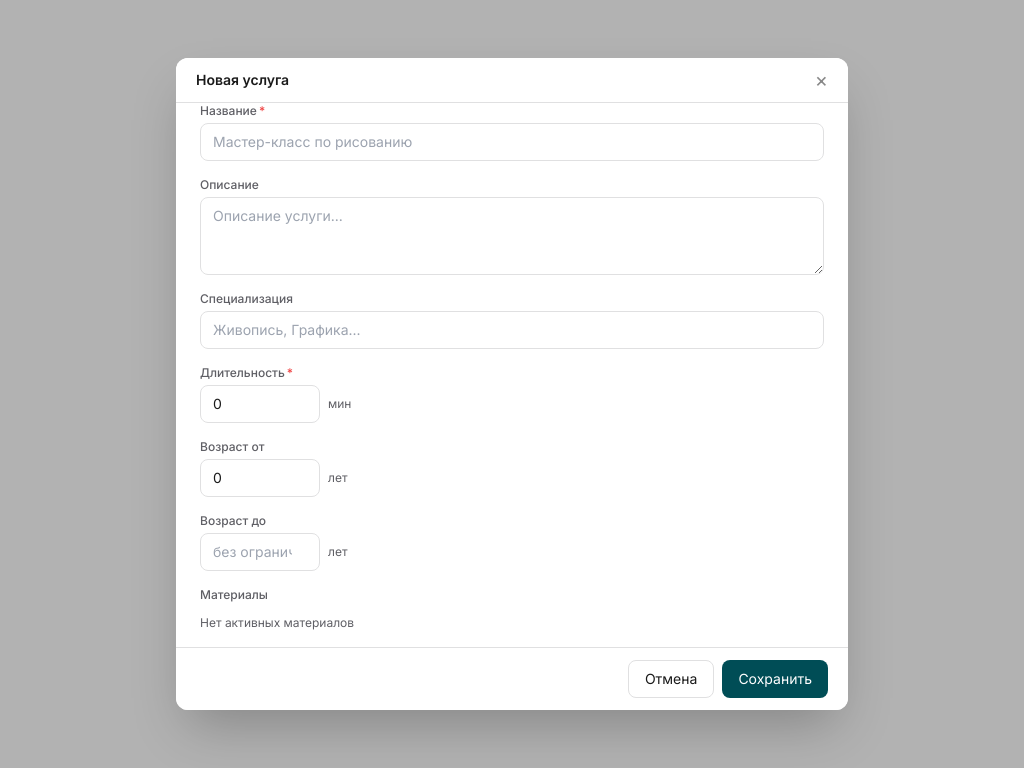
Test: ServiceModal — required numbers and tariff item fields (GH #203 §4.5) › duration 0 → «Минимум: 15» (range check alive)
Type "Новая услуга" into the field labelled "Название*" at (512, 142), box [200,123,824,161]
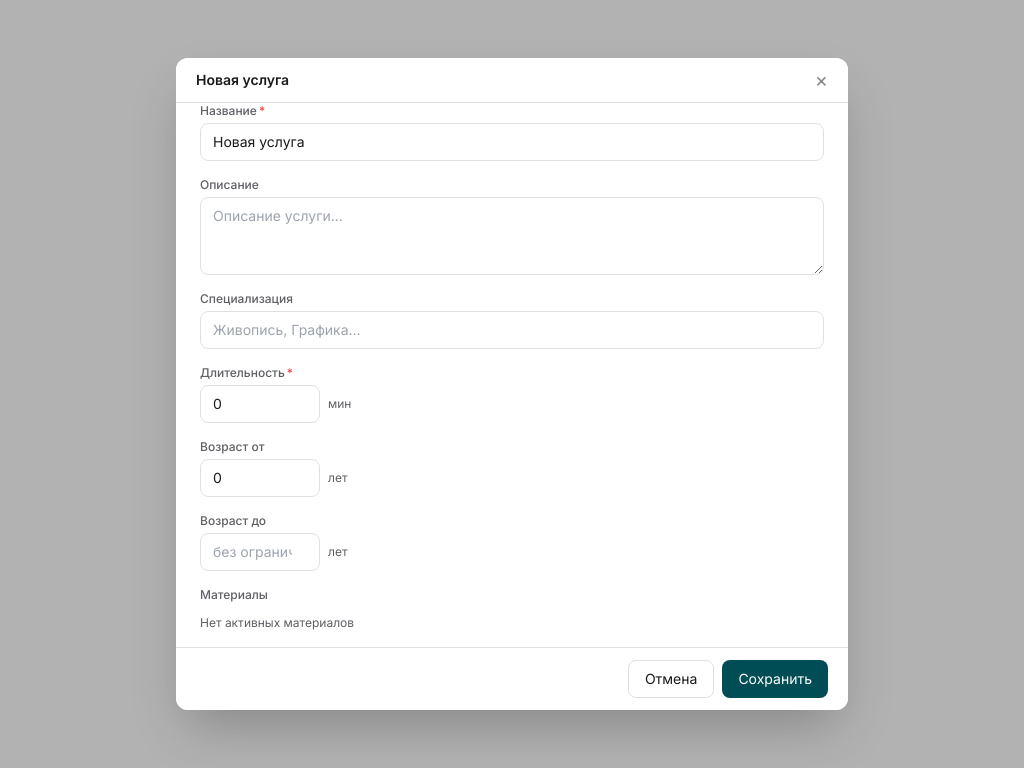
Click the button "Сохранить" at (775, 679), box [722,660,828,698]
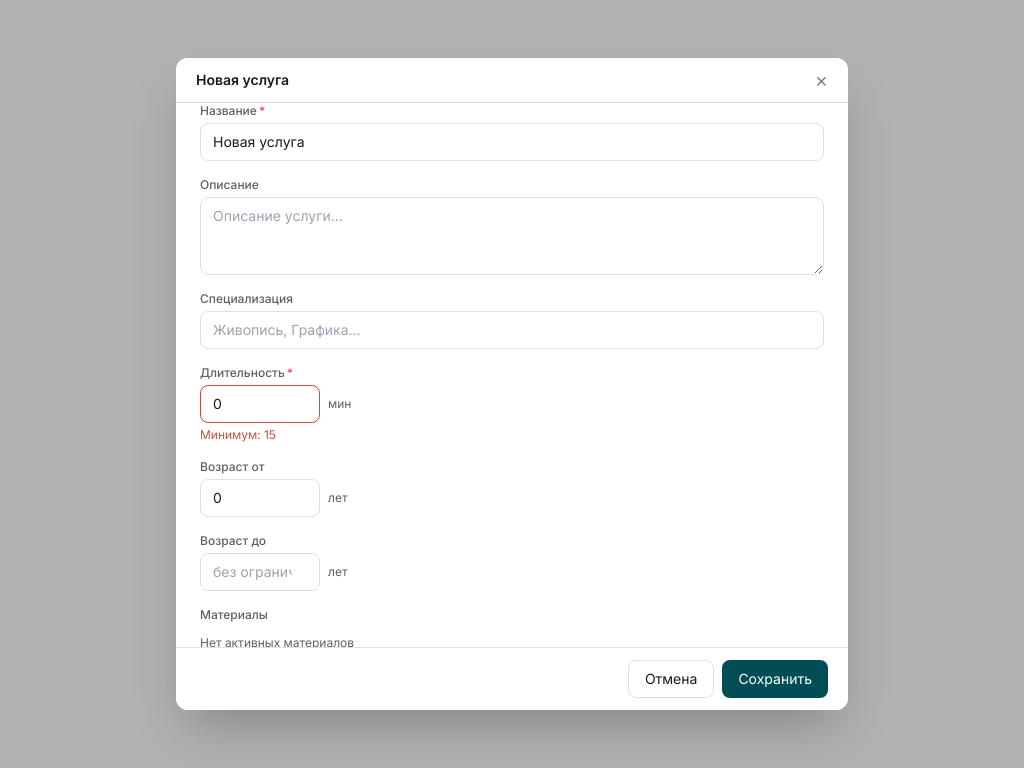
Expected: the text "Минимум: 15" is shown, [200,427,276,442]
